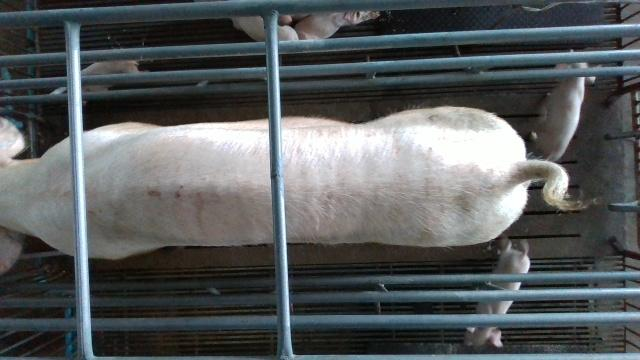piglet: (530, 47, 600, 161), (465, 236, 530, 348), (48, 60, 142, 95), (294, 8, 380, 40), (235, 16, 298, 42)
sow-stand-feed: (0, 105, 585, 273)
